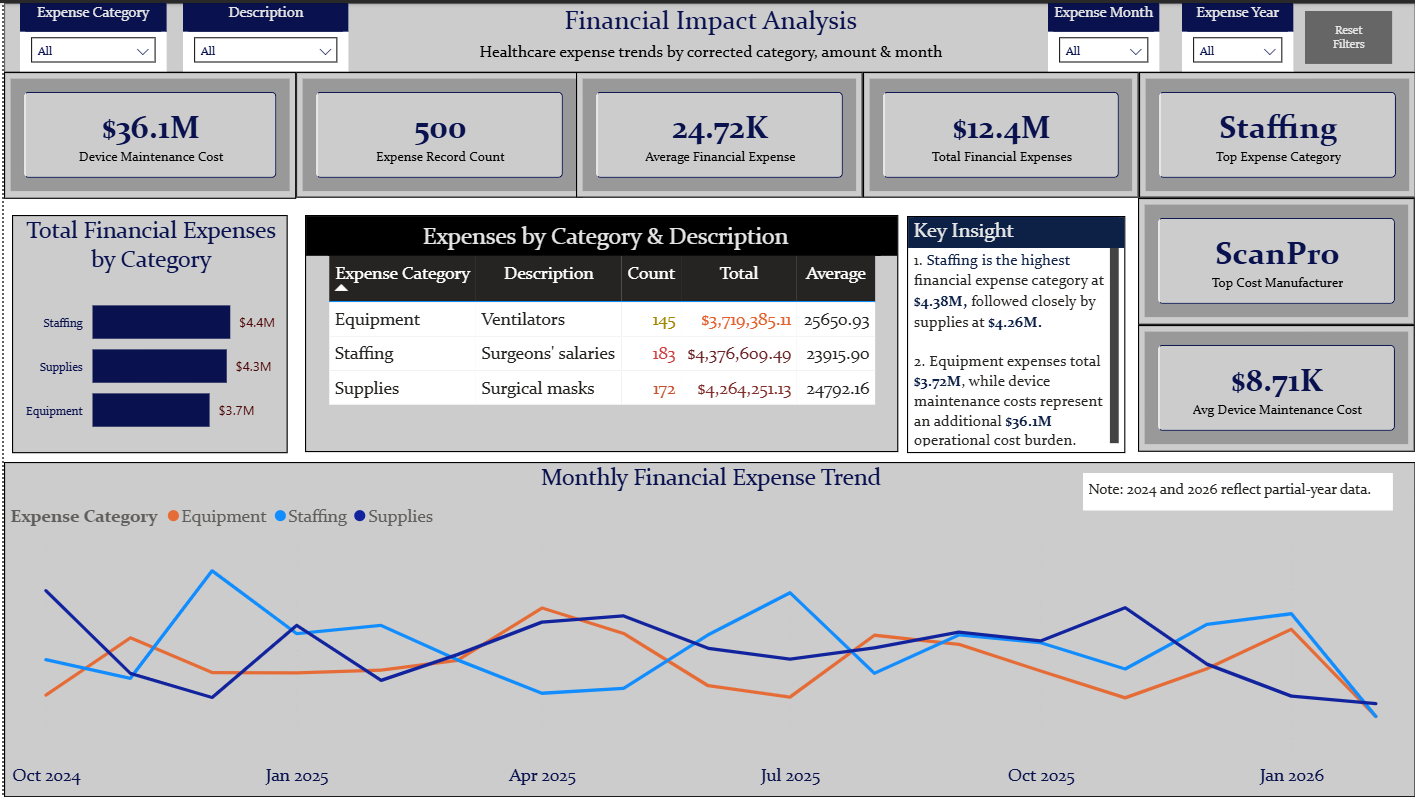

This screenshot's page, from the dashboard's own definition file:
{"tool":"powerbi","page":{"name":"Financial Impact Analysis","canvas":[1280,720],"ordinal":2},"visuals":[{"type":"textbox","title":"Financial Impact Analysis","box":[0,0,1280,62.7],"z":0},{"type":"cardVisual","fields":{"Data":["Measures Table.Expense Record Count"]},"box":[264.8,62.6,260.3,114.3],"z":1000},{"type":"cardVisual","fields":{"Data":["Measures Table.Average Financial Expense"]},"box":[518.7,62.6,260.3,114.3],"z":2000},{"type":"cardVisual","fields":{"Data":["Measures Table.Total Expense Display"]},"box":[778.9,62.6,250.3,114.3],"z":3000},{"type":"cardVisual","fields":{"Data":["Measures Table.Top Expense Category"]},"box":[1029.2,62.6,251.2,114.3],"z":4000},{"type":"clusteredBarChart","title":"Total Financial Expenses by Category","fields":{"Category":["financial_data_cleaned.corrected_expense_category"],"Y":["Measures Table.Total Financial Expenses"]},"box":[6.9,191.9,250.3,215.6],"z":5000},{"type":"tableEx","title":"Expenses by Category & Description","fields":{"Values":["financial_data_cleaned.corrected_expense_category","financial_data_cleaned.description","Measures Table.Expense Record Count","Measures Table.Total Financial Expenses","Measures Table.Average Financial Expense"]},"box":[273,191.9,538.1,214.7],"z":6000},{"type":"lineChart","title":"Monthly Financial Expense Trend","fields":{"Category":["financial_data_cleaned.expense_month_year.Variation.Date Hierarchy.Year","financial_data_cleaned.expense_month_year.Variation.Date Hierarchy.Quarter","financial_data_cleaned.expense_month_year.Variation.Date Hierarchy.Month","financial_data_cleaned.expense_month_year.Variation.Date Hierarchy.Day"],"Y":["Measures Table.Total Financial Expenses"],"Series":["financial_data_cleaned.corrected_expense_category"]},"box":[0,416.4,1280,303.7],"z":7000},{"type":"textbox","box":[978.3,426.3,280.9,33.6],"z":8000},{"type":"slicer","title":"Expense Year","fields":{"Values":["financial_data_cleaned.expense_year"]},"box":[1068.3,0,100.9,62.3],"z":9000},{"type":"slicer","title":"Expense Category","fields":{"Values":["financial_data_cleaned.corrected_expense_category"]},"box":[14.8,0,132.6,62.3],"z":10000},{"type":"slicer","title":"Description","fields":{"Values":["financial_data_cleaned.description"]},"box":[162.2,0,150.4,62.3],"z":11000},{"type":"cardVisual","fields":{"Data":["Measures Table.Maintenance Cost Display"]},"box":[0,62.3,265.1,114.7],"z":12000},{"type":"cardVisual","fields":{"Data":["Measures Table.Top Cost Manufacturer"]},"box":[1028.7,177.1,251.3,114.7],"z":13000},{"type":"actionButton","box":[1180.1,6.9,79.1,48.5],"z":13001},{"type":"cardVisual","fields":{"Data":["Measures Table.Average Maintenance Cost"]},"box":[1028.7,291.8,251.3,114.7],"z":13002},{"type":"slicer","title":"Expense Month","fields":{"Values":["financial_data_cleaned.expense_month"]},"box":[946.6,0,100.9,62.3],"z":13003},{"type":"textbox","title":"Key Insight","box":[819,192.9,197.8,214.7],"z":13004}]}

Visuals, with their boxes in screenshot pixels (x1, y1, x2, y2), scaled from the page's 1280x720 canvas onto the 1415x797 screenshot:
"Financial Impact Analysis" textbox: 0 0 1414 69
cardVisual - Measures Table.Expense Record Count: 293 69 580 196
cardVisual - Measures Table.Average Financial Expense: 573 69 861 196
cardVisual - Measures Table.Total Expense Display: 861 69 1138 196
cardVisual - Measures Table.Top Expense Category: 1138 69 1414 196
"Total Financial Expenses by Category" clusteredBarChart: 8 212 284 451
"Expenses by Category & Description" tableEx: 302 212 897 450
"Monthly Financial Expense Trend" lineChart: 0 461 1414 796
textbox: 1081 472 1392 509
"Expense Year" slicer: 1181 0 1293 69
"Expense Category" slicer: 16 0 163 69
"Description" slicer: 179 0 346 69
cardVisual - Measures Table.Maintenance Cost Display: 0 69 293 196
cardVisual - Measures Table.Top Cost Manufacturer: 1137 196 1414 323
actionButton: 1305 8 1392 61
cardVisual - Measures Table.Average Maintenance Cost: 1137 323 1414 450
"Expense Month" slicer: 1046 0 1158 69
"Key Insight" textbox: 905 214 1124 451
